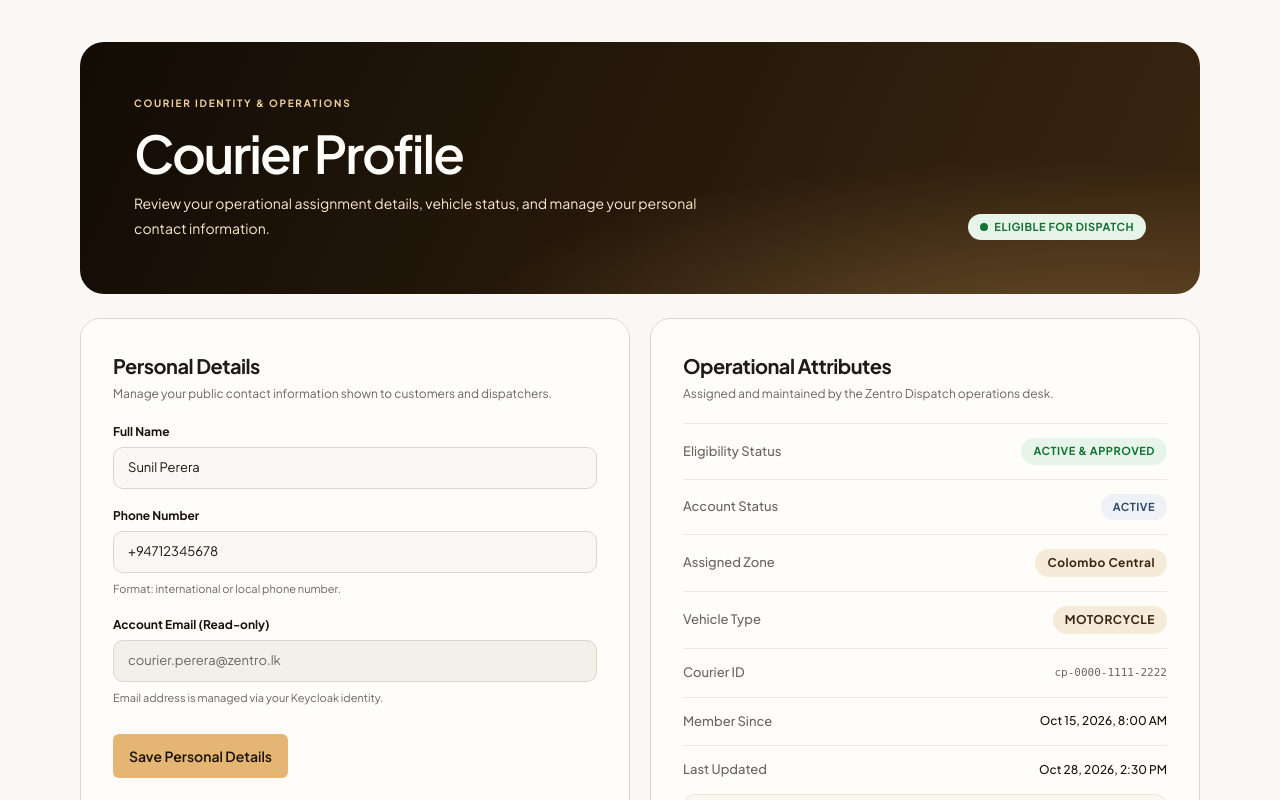
CourierProfilePage › submits updated personal details and displays success banner
Replace the text in the field labelled "Full Name" with "Sunil P. Updated" at coordinates (355, 468), box [113,447,597,489]
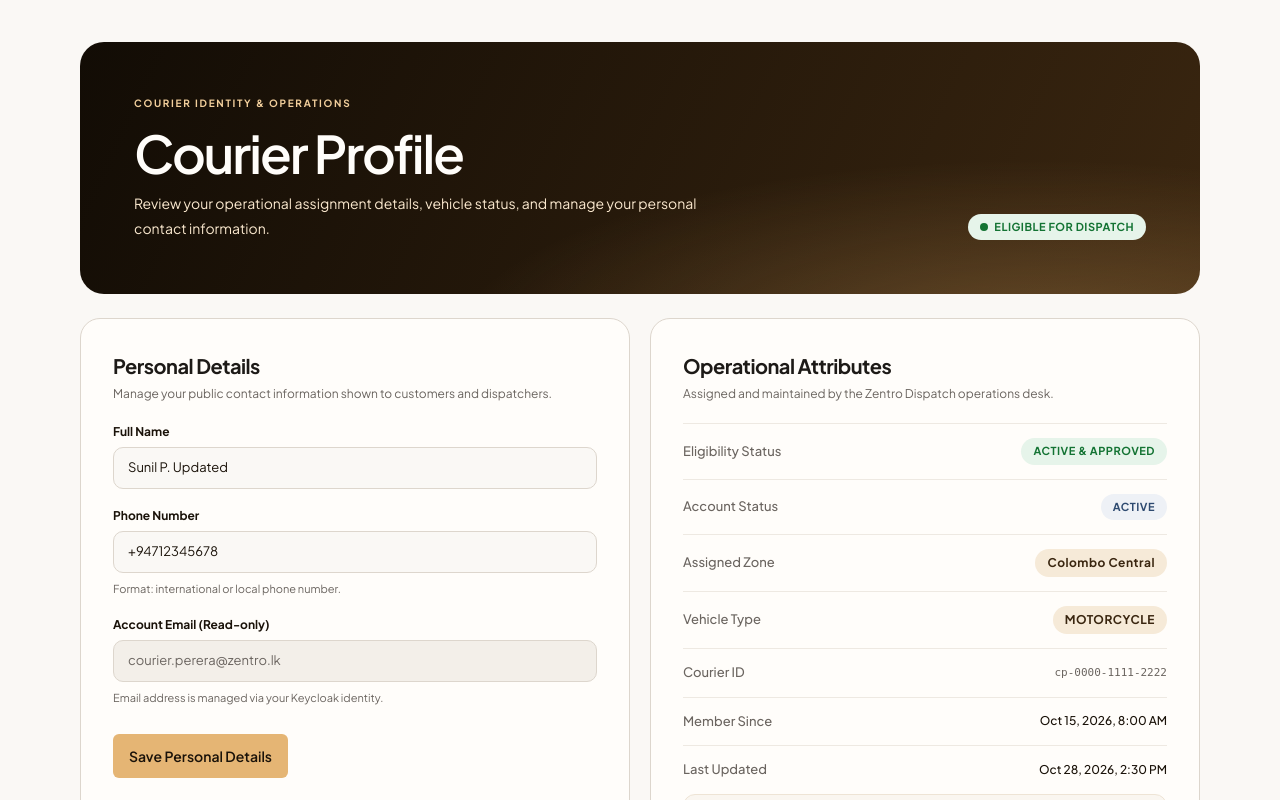
Replace the text in the field labelled "Phone Number" with "+94779998877" at coordinates (355, 552), box [113,531,597,573]
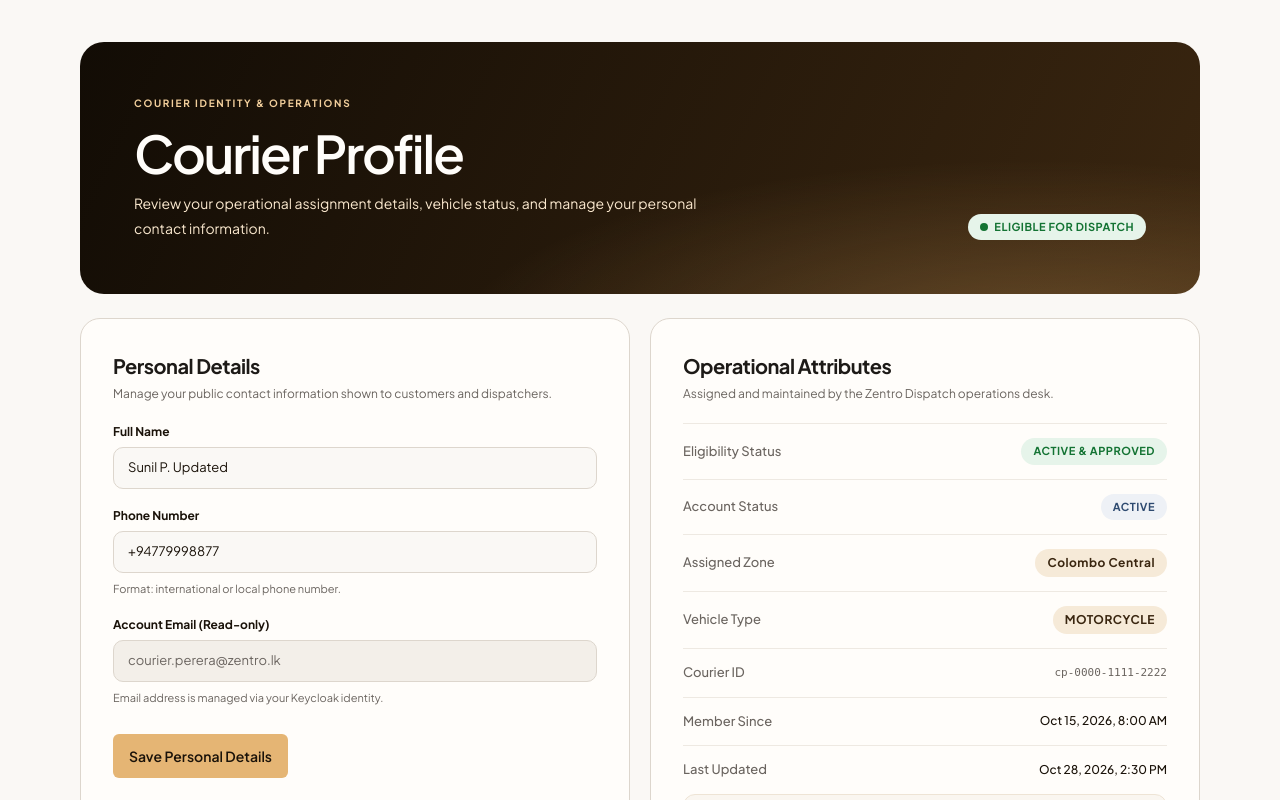
Click the button "Save Personal Details" at coordinates (200, 756), box [113,734,288,778]
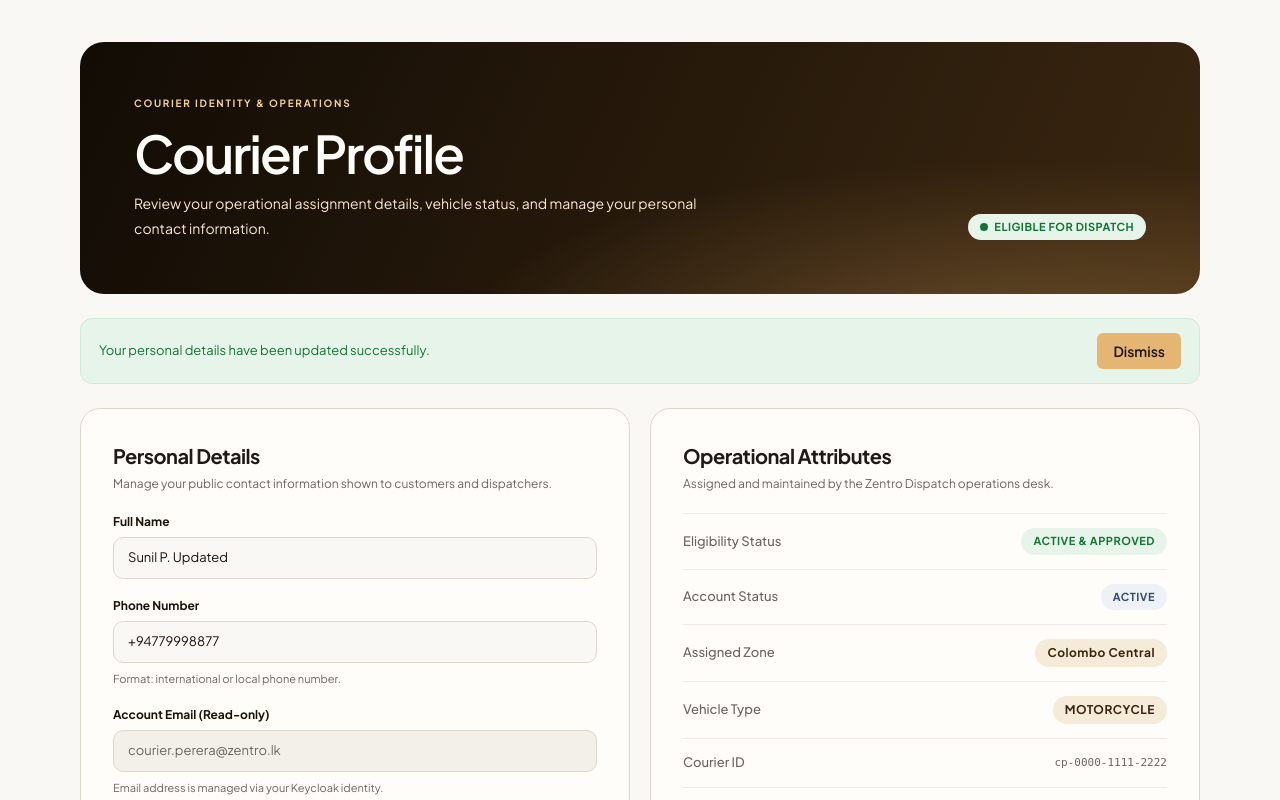
Now the text "Your personal details have been updated successfully." is shown, box [99,341,430,361]
